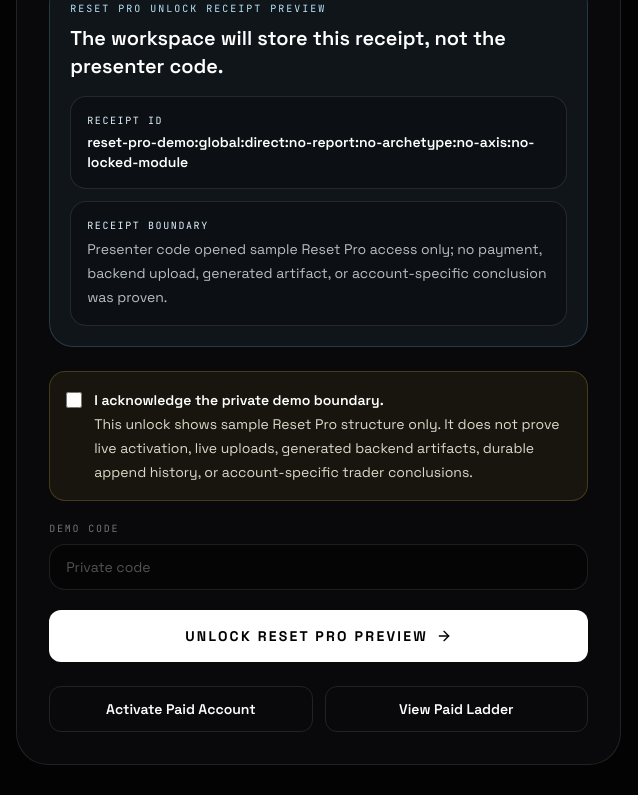
PrivateDemoPage › blocks locked-insight private-demo URLs without local locked-section intent
(page scrolled)
Step 1. Click the checkbox labelled "I acknowledge the private demo boundary" → (74, 400), box [66, 392, 82, 408]
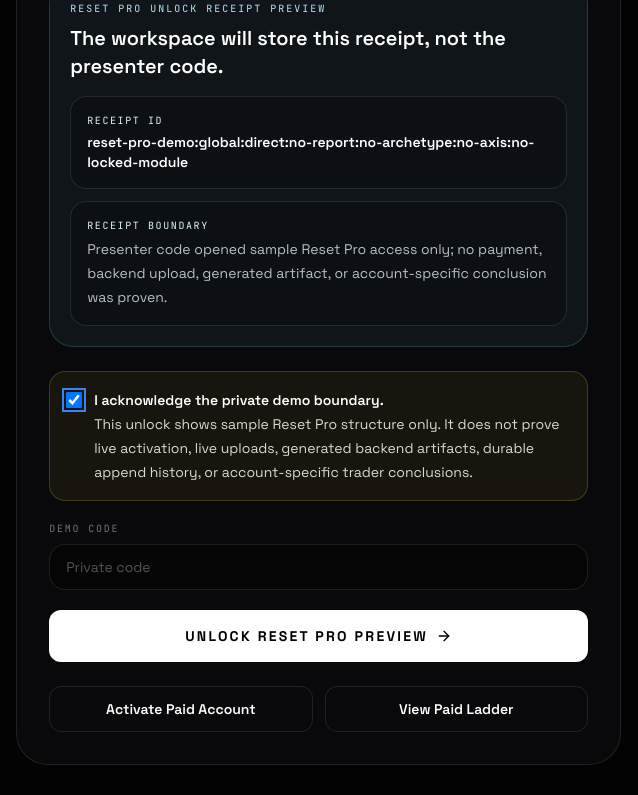
Step 2. Type "founder-only" into the password field labelled "Demo code" → (319, 567), box [49, 544, 588, 590]
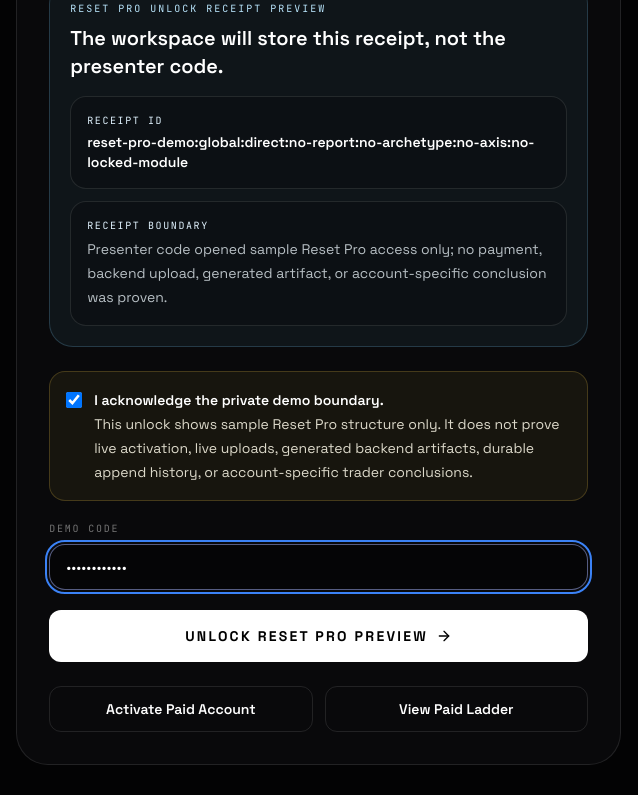
Step 3. Click the button "Unlock Reset Pro Preview" → (319, 636), box [49, 610, 588, 662]
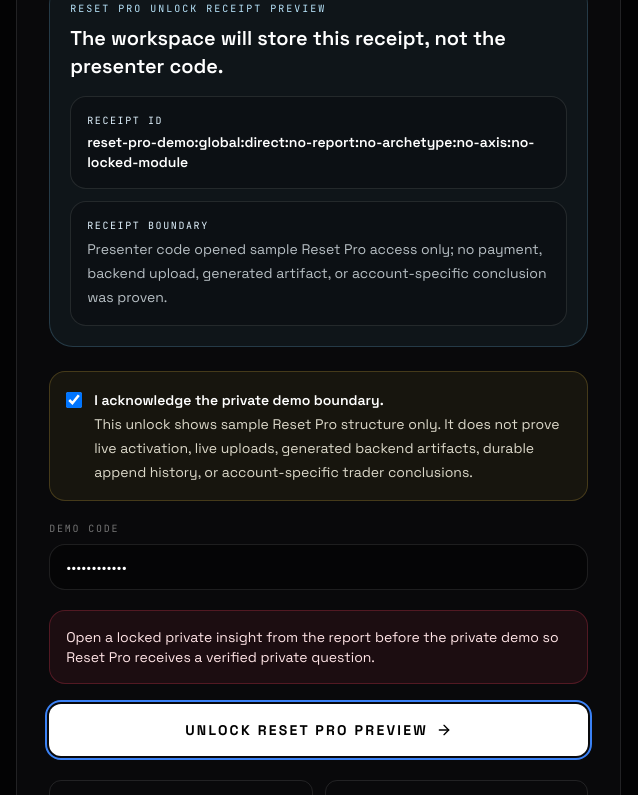
Now the text "Open a locked private insight from the report before the private demo" is shown, box [66, 628, 559, 666]
